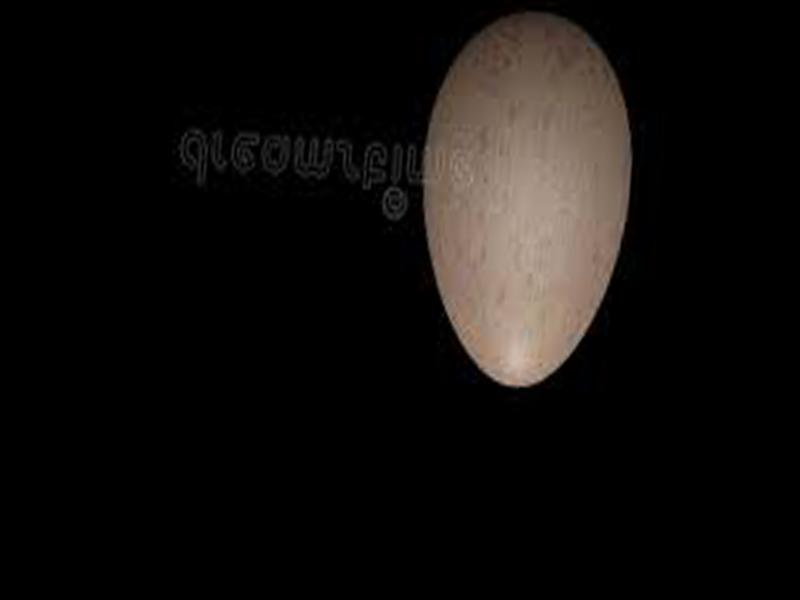Eggs: (410, 4, 642, 396)
